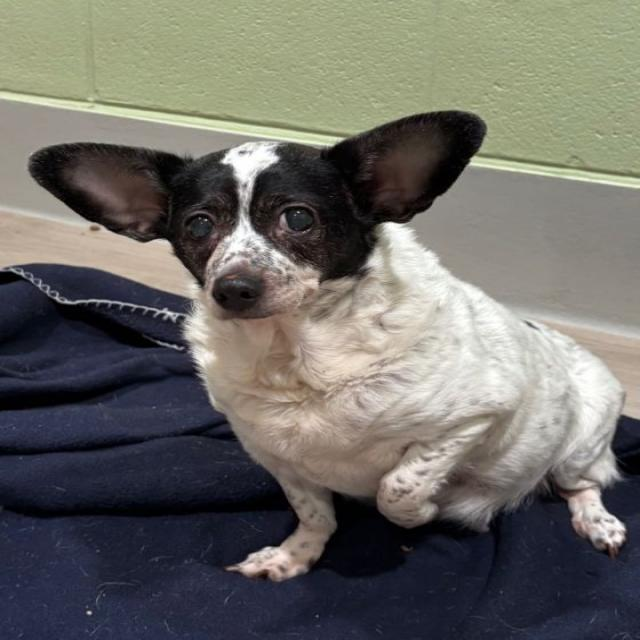corgi_dog: (23, 100, 501, 336)
